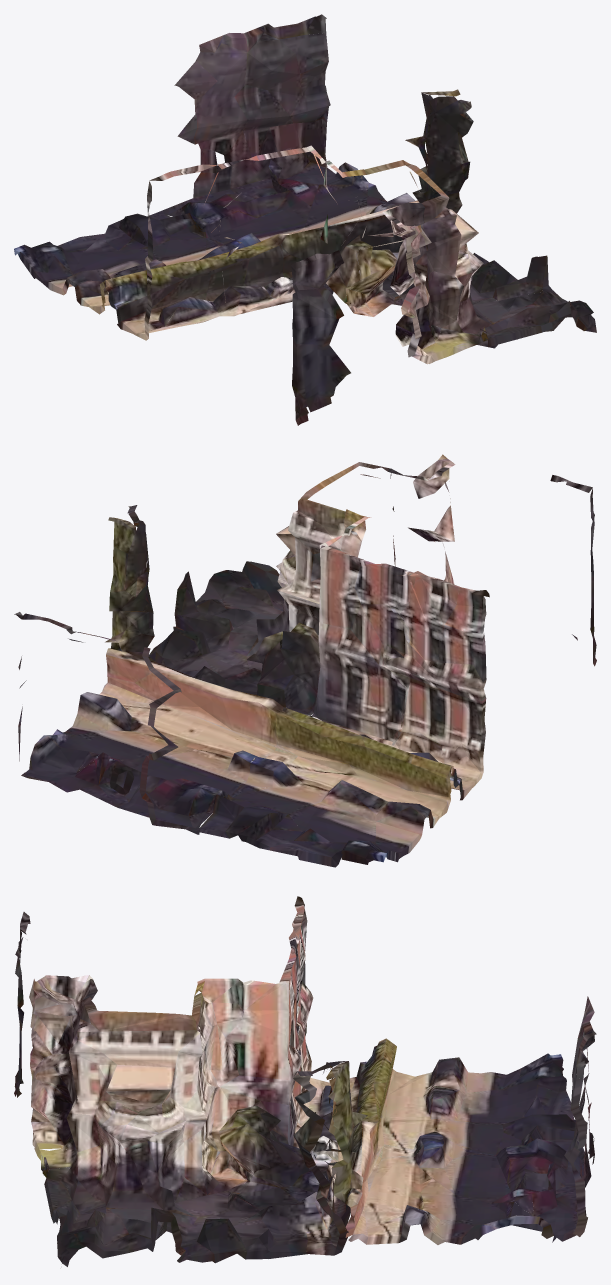
3 renders of one model, top to bottom at view 1: azimuth 30°, elevation 25°; view 2: azimuth 150°, elevation 25°; view 3: azimuth 270°, elevation 25°, orthographic. The views are drawn at different scales.
Visible parts, largest first — view 1: Mesh_0; view 2: Mesh_0; view 3: Mesh_0.
Part boxes in pixels (x1,y1,x2,y2): Mesh_0: [14, 14, 596, 425]; Mesh_0: [14, 454, 596, 867]; Mesh_0: [14, 896, 596, 1266].
Bounding box in the file's own units: 33.29 × 15.03 × 40.51.
2 materials, 2 textured.
